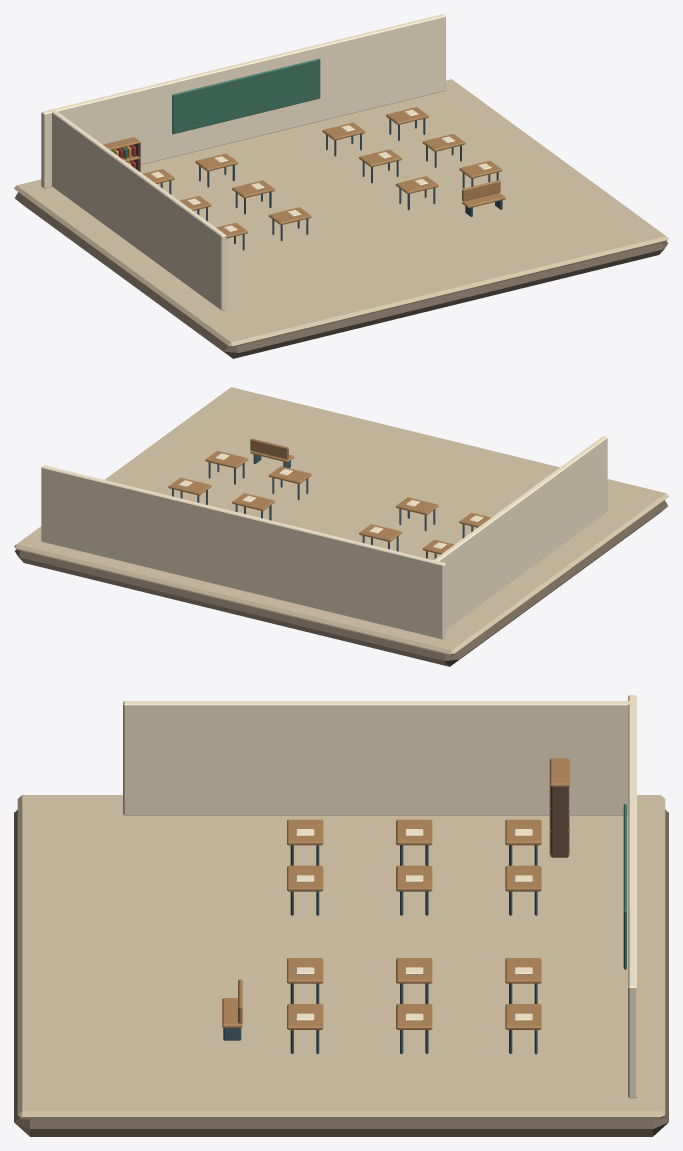
File: world-school.glb
3 views of the same model, one above another, from view 1: azimuth 30°, elevation 25°; view 2: azimuth 150°, elevation 25°; view 3: azimuth 270°, elevation 25° (orthographic). The views are drawn at different scales.
Visible parts, largest first — view 1: terrain-top, rear-wall, side-wall, terrain-stratum, chalkboard, bench-back.001; view 2: terrain-top, rear-wall, side-wall, terrain-stratum, bench-back.001, desk-top.008, desk-top.004, desk-top.011, desk-top.005, desk-top.007, desk-top.010; view 3: terrain-top, side-wall, terrain-stratum, rear-wall, shelf-side.003, desk-top.006, desk-top.005, desk-top.004, desk-top.003, desk-top.002, desk-top.001, desk-top.008 (+6 smaller).
Boxes of the visible parts, x1,y1,x2,y2 form: terrain-top: (14,79,668,347); rear-wall: (41,14,445,188); side-wall: (52,110,226,310); terrain-stratum: (14,192,667,358); chalkboard: (172,58,320,134); bench-back.001: (462,180,500,201); terrain-top: (14,387,668,655); rear-wall: (41,465,445,639); side-wall: (433,436,607,629); terrain-stratum: (15,500,667,666); bench-back.001: (250,438,288,459); desk-top.008: (232,493,274,511); desk-top.004: (395,497,438,515); desk-top.011: (168,477,211,495); desk-top.005: (359,524,401,541); desk-top.007: (268,466,311,484); desk-top.010: (205,450,248,468); terrain-top: (17,795,665,1119); side-wall: (123,701,630,815); terrain-stratum: (14,810,668,1136); rear-wall: (628,695,636,1098); shelf-side.003: (550,786,568,857); desk-top.006: (505,865,541,891); desk-top.005: (396,865,432,891); desk-top.004: (287,865,323,891); desk-top.003: (505,819,541,845); desk-top.002: (396,819,432,845); desk-top.001: (287,819,323,845); desk-top.008: (396,958,432,983).
Bounding box in the file's own units: 21 × 4.29 × 18.
